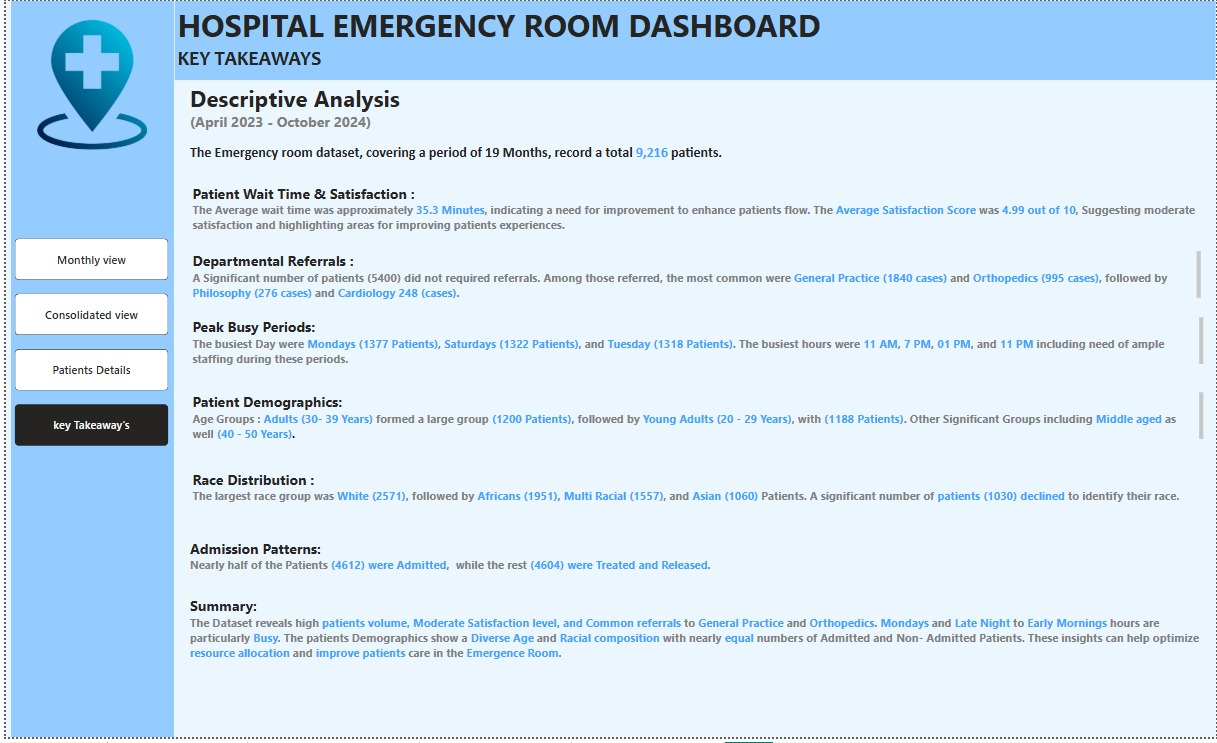

The page's visual inventory and layout, read from the dashboard file:
{"tool":"powerbi","page":{"name":"key Takeaway's ","canvas":[2300,1400],"ordinal":3},"visuals":[{"type":"shape","box":[9.9,0,310,1400.5],"z":0},{"type":"shape","box":[320.5,0,1980,150.4],"z":1000},{"type":"textbox","box":[321,0,1324.4,92.7],"z":2000},{"type":"textbox","box":[321,80.8,375.7,69],"z":3000},{"type":"image","box":[35.7,30.9,256.8,256.8],"z":4000},{"type":"textbox","box":[344.8,149.8,418.5,116.5],"z":5000},{"type":"pageNavigator","box":[16.6,451.8,292.5,397.1],"z":6000},{"type":"textbox","box":[344.8,266.3,1933.1,76.1],"z":7000},{"type":"textbox","box":[349.5,342.4,1928.3,109.4],"z":8000},{"type":"textbox","box":[349.5,470.8,1928.3,109.4],"z":9000},{"type":"textbox","box":[349.5,596.8,1933.1,109.4],"z":10000},{"type":"textbox","box":[349.5,739.5,1933.1,109.4],"z":10001},{"type":"textbox","box":[349.5,886.9,1933.1,109.4],"z":10002},{"type":"textbox","box":[344.8,1017.7,1933.1,109.4],"z":10003},{"type":"textbox","box":[344.8,1127,1933.1,133.2],"z":10004}]}

Visuals, with their boxes in screenshot pixels (x1, y1, x2, y2), scaled from the page's 2300x1400 canvas onto the 1217x743 screenshot:
shape: l=5, t=0, r=169, b=742
shape: l=170, t=0, r=1216, b=80
textbox: l=170, t=0, r=871, b=49
textbox: l=170, t=43, r=369, b=80
image: l=19, t=16, r=155, b=153
textbox: l=182, t=80, r=404, b=141
pageNavigator: l=9, t=240, r=164, b=451
textbox: l=182, t=141, r=1205, b=182
textbox: l=185, t=182, r=1205, b=240
textbox: l=185, t=250, r=1205, b=308
textbox: l=185, t=317, r=1208, b=375
textbox: l=185, t=392, r=1208, b=451
textbox: l=185, t=471, r=1208, b=529
textbox: l=182, t=540, r=1205, b=598
textbox: l=182, t=598, r=1205, b=669
